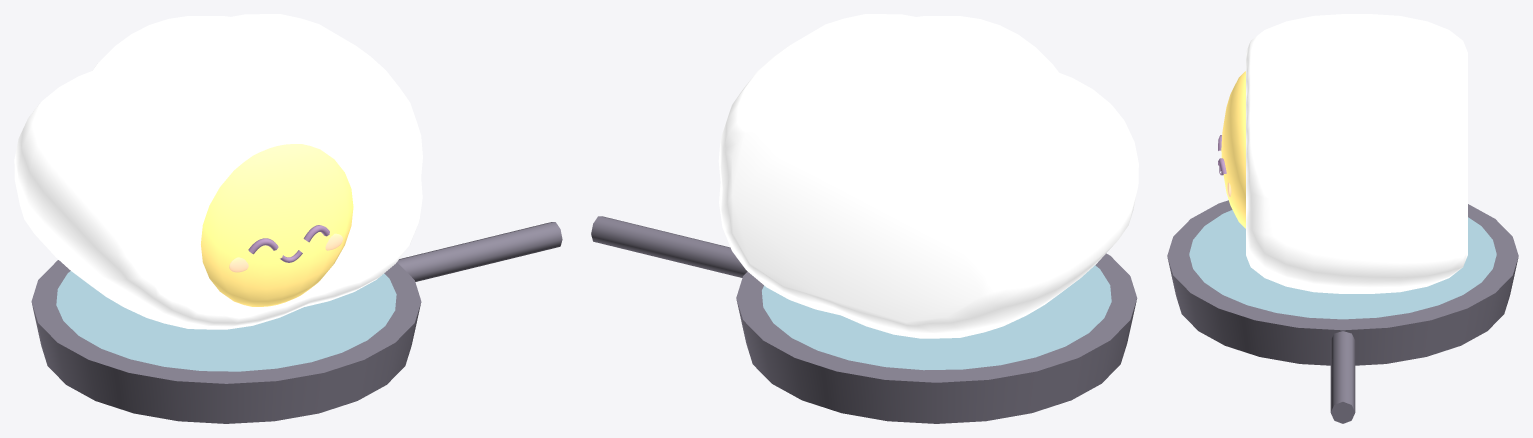
Rendered from life_egg.glb.
3 renders of one model, left to right at view 1: azimuth 30°, elevation 25°; view 2: azimuth 150°, elevation 25°; view 3: azimuth 270°, elevation 25°, orthographic. The views are drawn at different scales.
Parts seen in each view (by area): view 1: wrap_egg_1, life_egg; view 2: wrap_egg_1, life_egg; view 3: wrap_egg_1, life_egg.
Part boxes in pixels (bbox=[...]): wrap_egg_1: bbox=[14, 14, 422, 329]; life_egg: bbox=[31, 222, 562, 423]; wrap_egg_1: bbox=[718, 14, 1138, 338]; life_egg: bbox=[591, 216, 1137, 423]; wrap_egg_1: bbox=[1218, 14, 1467, 293]; life_egg: bbox=[1167, 200, 1518, 423].
Bounding box in the file's own units: 5.9 × 3.39 × 4.
